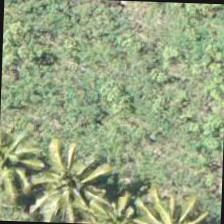Kelapa_Sawit: (16, 142, 110, 223), (0, 116, 46, 209)
